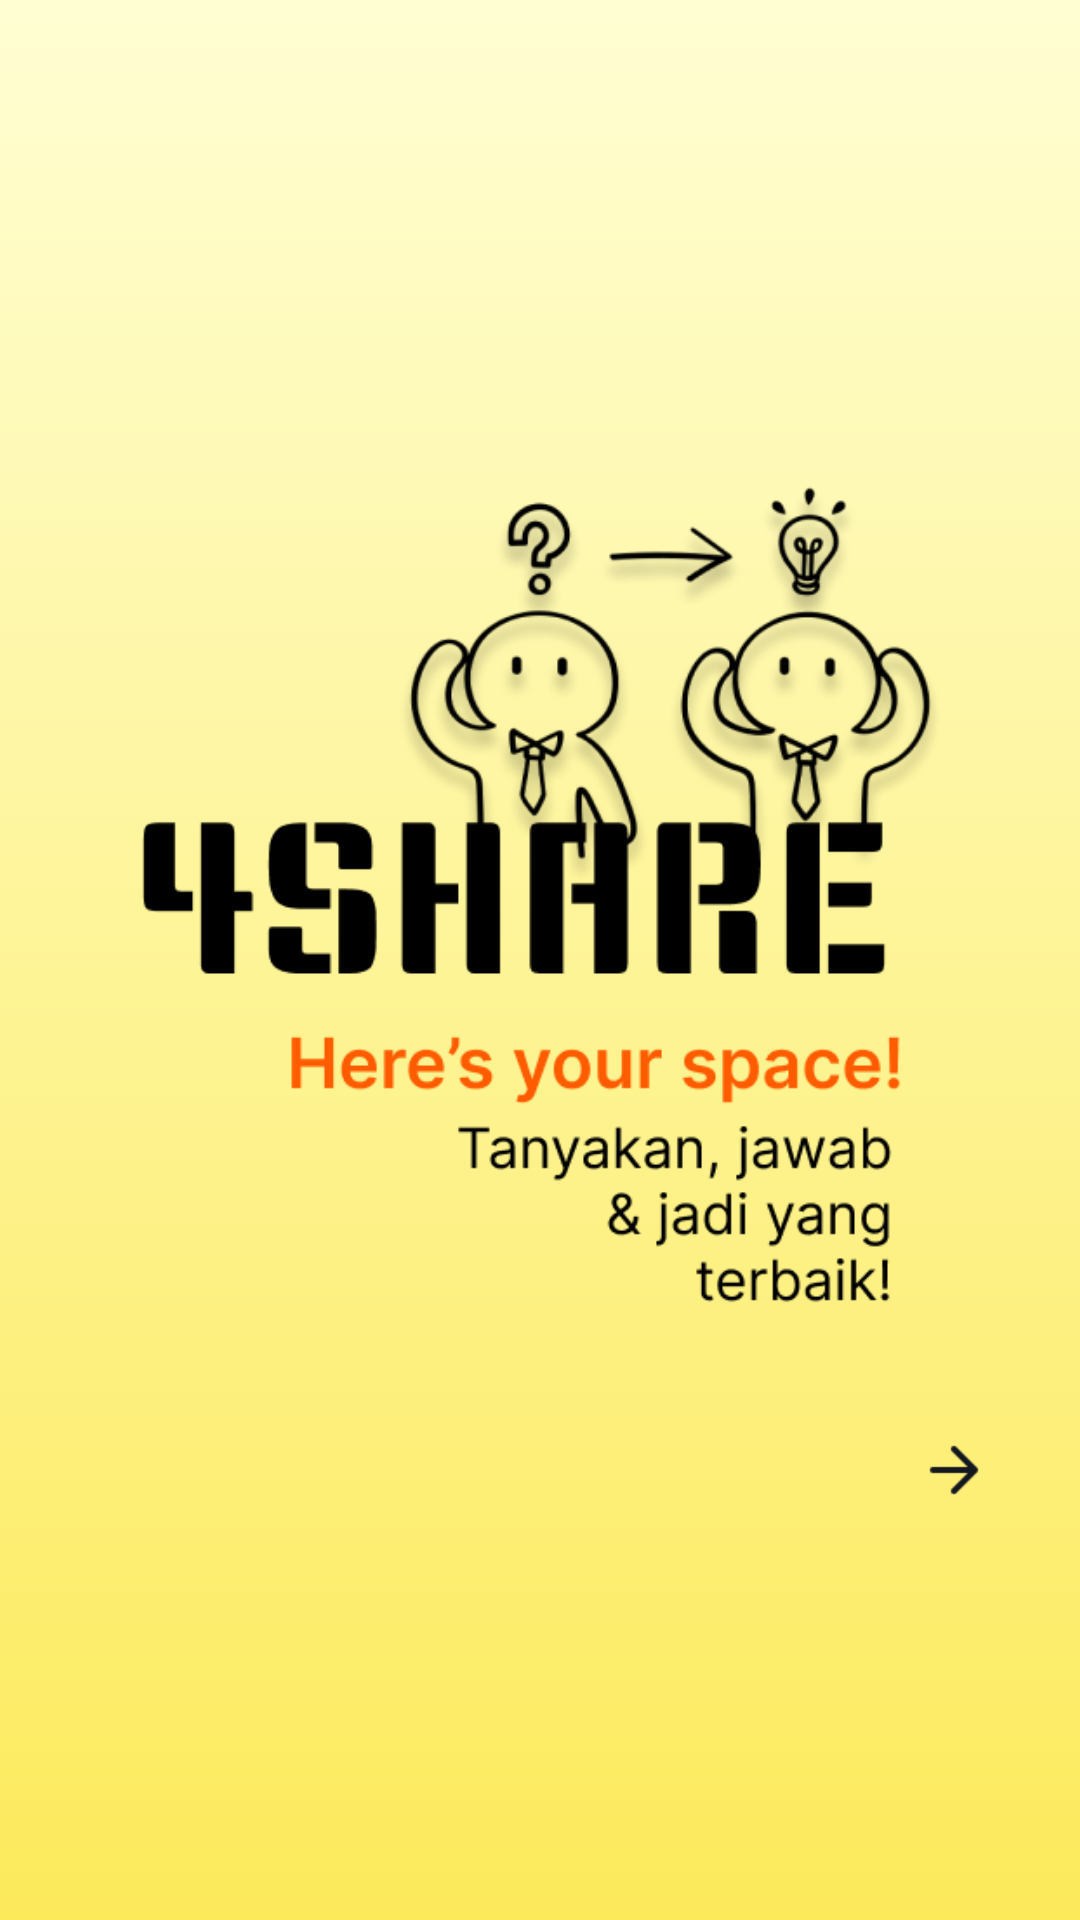

Icon click points for this 1080*1920 phone screenshot, format point (x, y):
next arrow: point (954, 1470)
